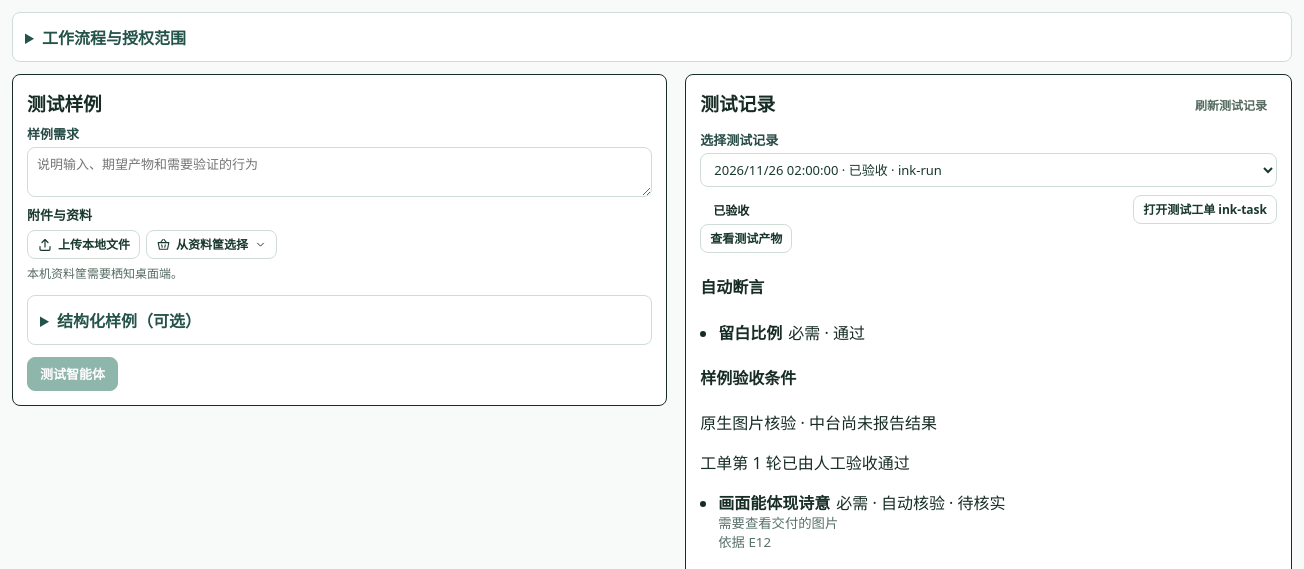
Test: shows the sealed native requirement and reads the selected trial's archived files on demand
This screenshot has width=1304, height=569.
Click the heading "工作流程与授权范围": coordinates (114, 38) [42,27,186,49]
(page scrolled)
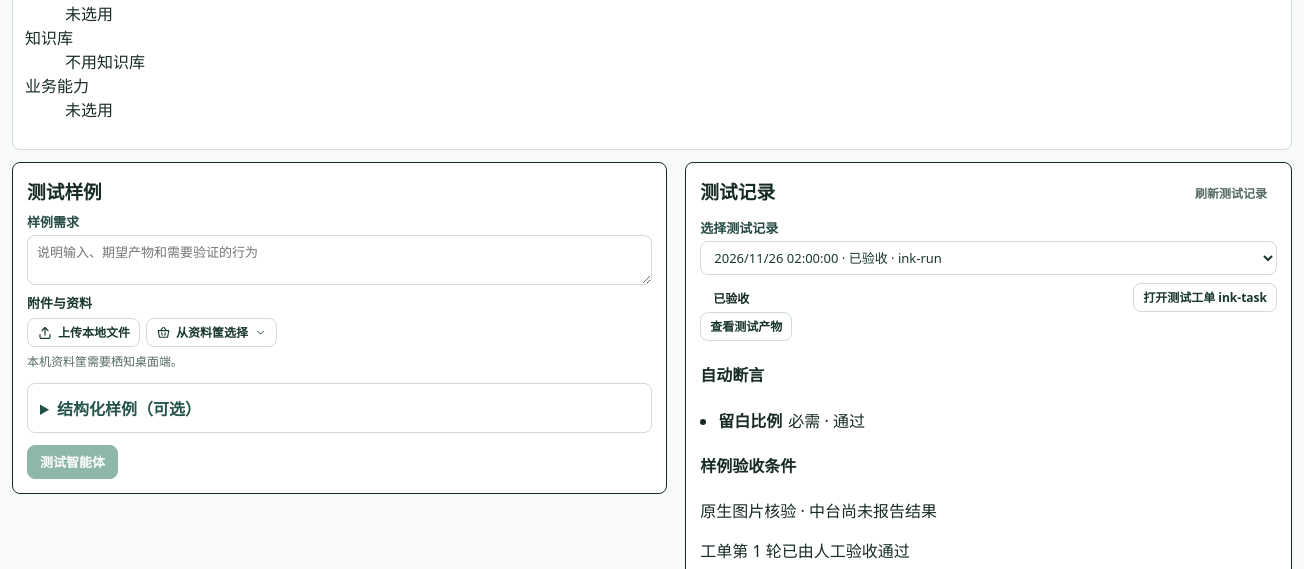
Click the button "查看测试产物": coordinates (746, 326) [700,312,792,341]
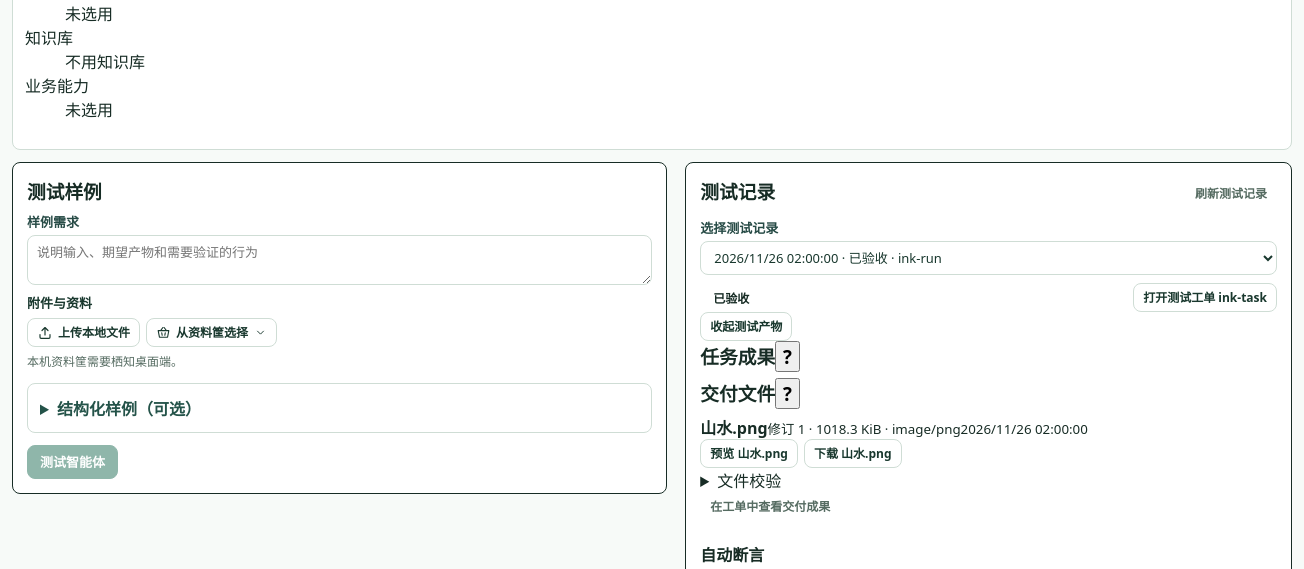
Result: the button "预览 山水.png" is shown at [700,439,798,468]
Result: the button "下载 山水.png" is shown at [804,439,902,468]
